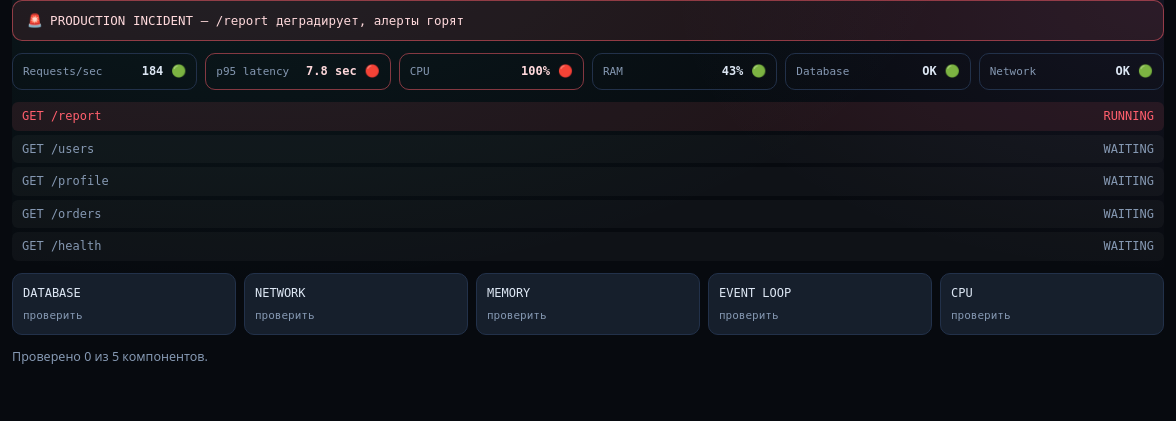
финальный босс: расследование инцидента › проверка компонента занимает время и выдаёт вердикт с деталями
The width and height of the screenshot is (1176, 421).
Click the button "DATABASE проверить" at (124, 304), box 12,273 -> 236,334
Wait 600 ms
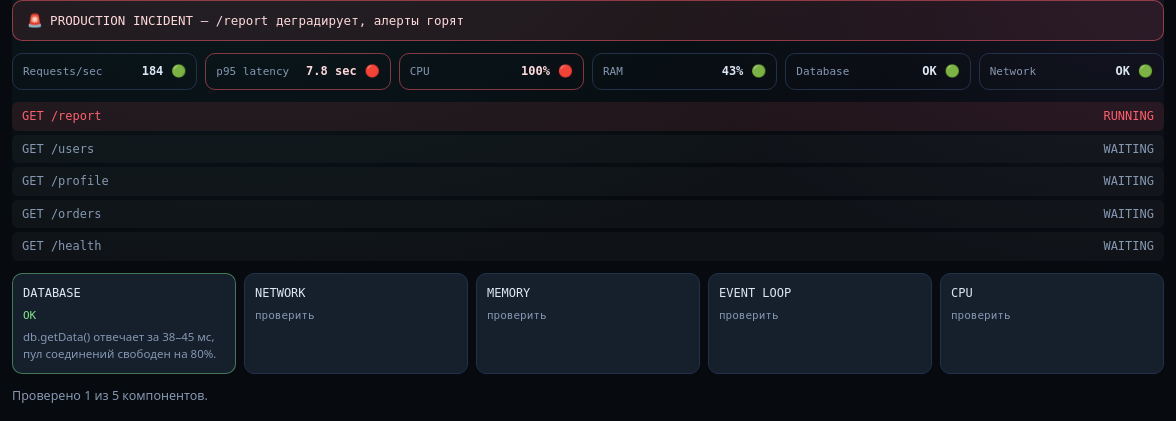
Check: the button "DATABASE" shows "OK", box 12,273 -> 236,374
Check: the text "db.getData() отвечает за 38–45 мс" is shown, box 23,329 -> 216,361
Check: the text "Проверено 1 из 5 компонентов." is shown, box 12,387 -> 208,404
